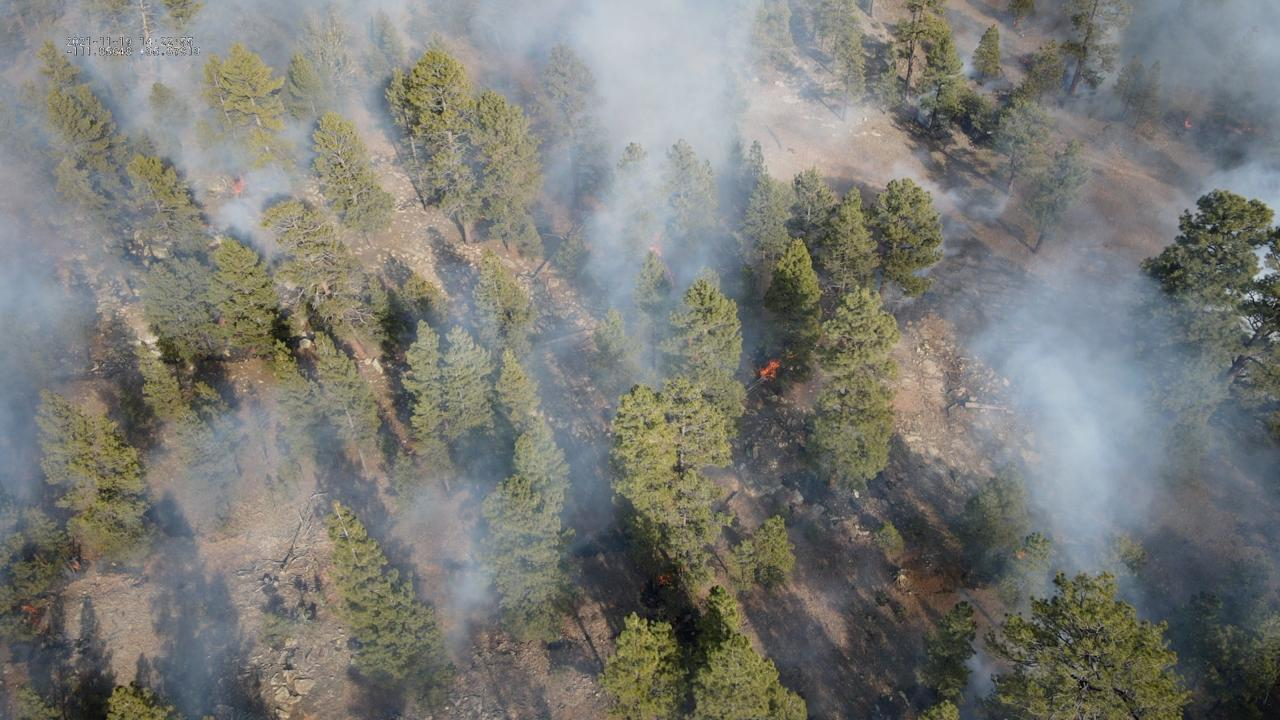fire: (757, 359, 782, 380), (229, 174, 246, 193), (649, 241, 664, 258), (20, 604, 40, 615), (1013, 550, 1027, 561), (216, 314, 228, 326), (73, 559, 82, 572), (657, 576, 667, 586), (1184, 118, 1191, 130), (249, 347, 258, 355)
smoke: (0, 0, 1280, 720)
